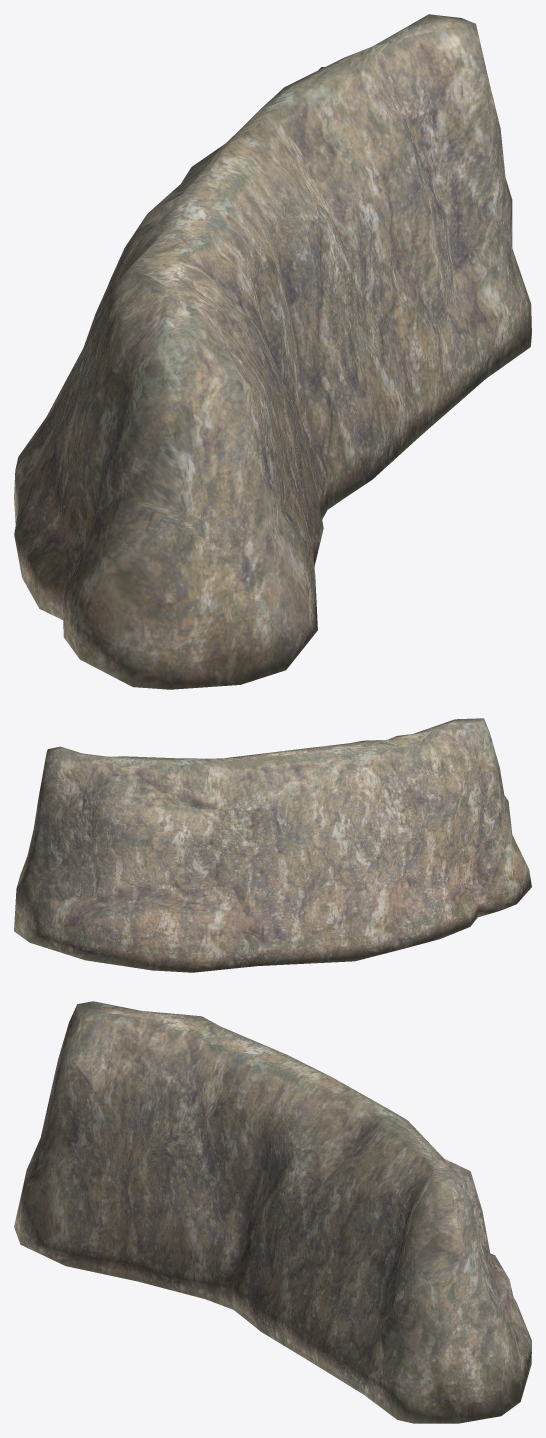
The model's file is land_cliff02d.fbx.
3 views of the same model, one above another, from view 1: azimuth 30°, elevation 25°; view 2: azimuth 150°, elevation 25°; view 3: azimuth 270°, elevation 25° (orthographic). The views are drawn at different scales.
Parts seen in each view (by area): view 1: land_cliff02d; view 2: land_cliff02d; view 3: land_cliff02d.
Boxes of the visible parts, bbox=[...] form: land_cliff02d: bbox=[14, 14, 531, 689]; land_cliff02d: bbox=[14, 718, 531, 972]; land_cliff02d: bbox=[14, 1001, 531, 1423].
Bounding box in the file's own units: 22.62 × 10.24 × 21.58.
